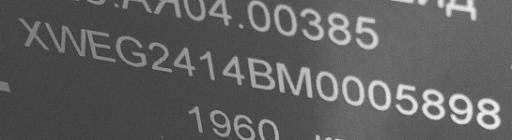letter: (44, 19, 90, 58), (276, 59, 314, 101), (17, 13, 51, 52), (115, 32, 149, 70), (84, 26, 116, 65), (246, 54, 278, 92), (474, 95, 504, 130), (420, 84, 446, 123), (338, 73, 368, 106), (365, 76, 393, 111), (392, 81, 420, 116), (219, 52, 245, 88), (446, 91, 474, 124), (148, 40, 174, 74), (314, 68, 340, 102), (173, 44, 197, 78), (197, 47, 219, 83)
